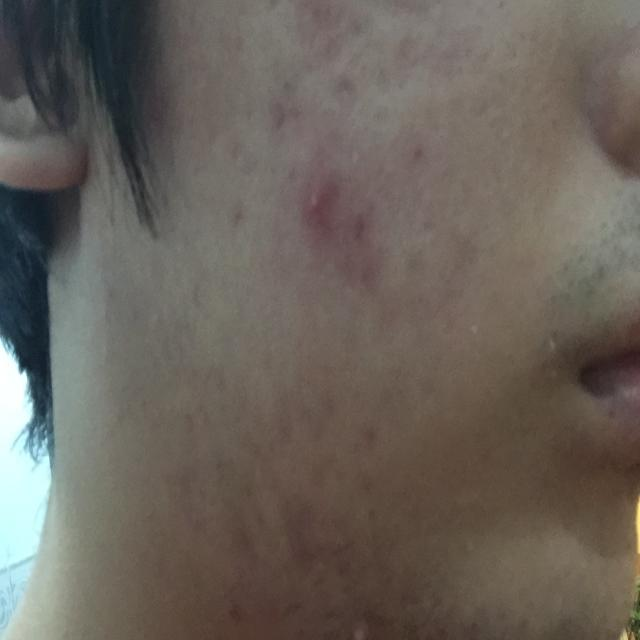blackheads: (301, 173, 332, 231)
